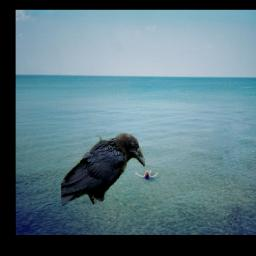Crow: (62, 132, 146, 206)
